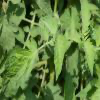Tomato leaf: (8, 41, 46, 82), (80, 34, 98, 79), (54, 32, 69, 83), (40, 12, 59, 41)
